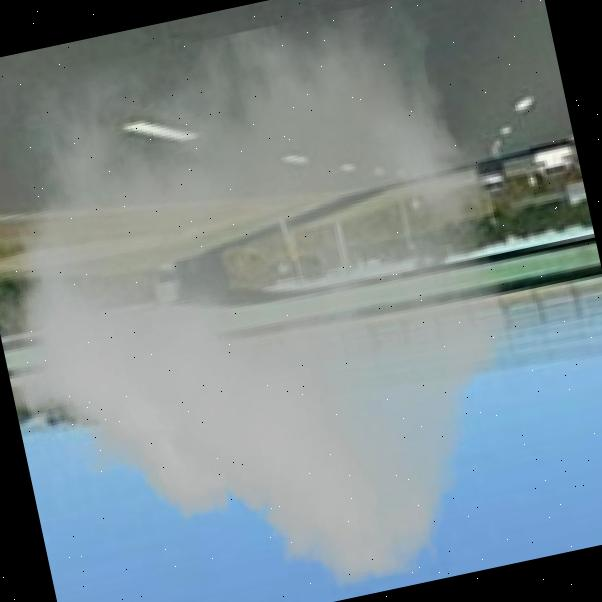smoke: (126, 95, 361, 472)
